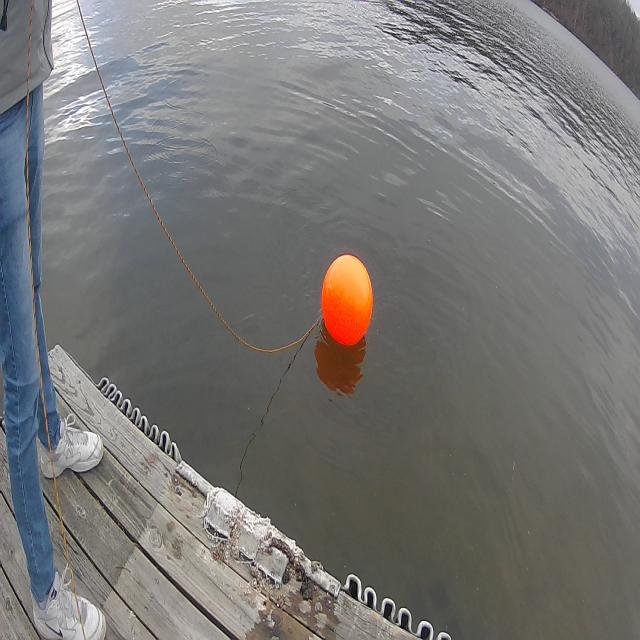Buoy: (318, 252, 377, 348)
